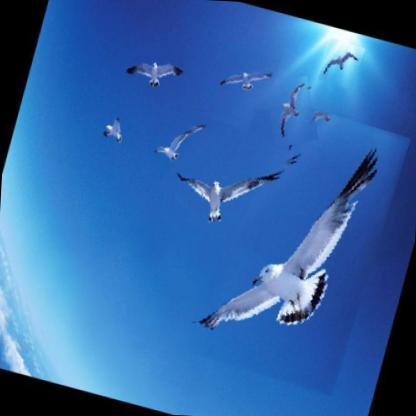bird: (194, 97, 397, 391), (159, 117, 291, 248), (119, 43, 188, 100), (214, 49, 279, 109), (264, 75, 318, 147), (146, 118, 196, 170), (319, 38, 362, 88), (97, 111, 128, 147)
